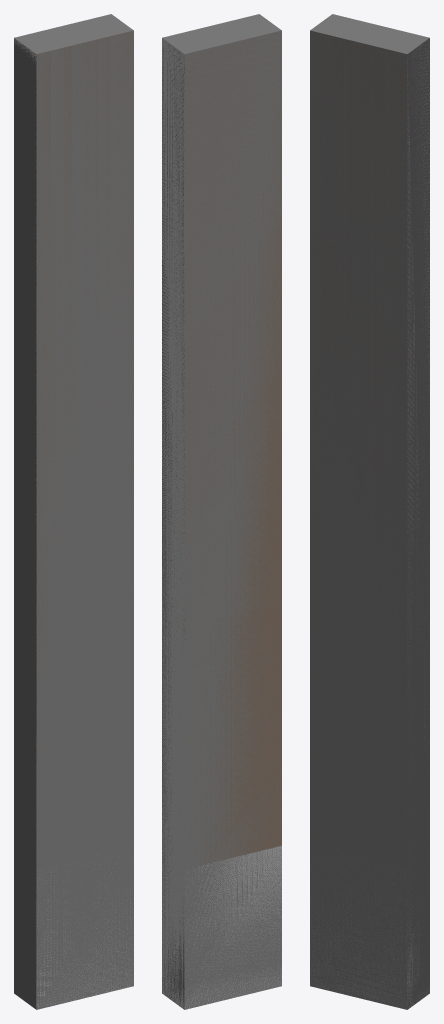
The model's file is s_wh_wall_short_1m.dae.
3 views of the same model, side by side, from view 1: azimuth 30°, elevation 25°; view 2: azimuth 210°, elevation 25°; view 3: azimuth 330°, elevation 25° (orthographic).
Parts seen in each view (by area): view 1: Colmesh_s_wh_wall_short_1m-1, s_wh_wall_short_1m_L50, s_wh_wall_short_1m_L30; view 2: Colmesh_s_wh_wall_short_1m-1, s_wh_wall_short_1m_L30, s_wh_wall_short_1m_L50; view 3: Colmesh_s_wh_wall_short_1m-1, s_wh_wall_short_1m_L30, s_wh_wall_short_1m_L50.
Boxes of the visible parts, <box> form: Colmesh_s_wh_wall_short_1m-1: <box>14,14,133,1009</box>; s_wh_wall_short_1m_L50: <box>14,38,133,1009</box>; s_wh_wall_short_1m_L30: <box>36,31,133,1009</box>; Colmesh_s_wh_wall_short_1m-1: <box>162,14,281,1009</box>; s_wh_wall_short_1m_L30: <box>184,30,281,1009</box>; s_wh_wall_short_1m_L50: <box>162,44,281,1009</box>; Colmesh_s_wh_wall_short_1m-1: <box>310,14,429,1009</box>; s_wh_wall_short_1m_L30: <box>310,31,407,1009</box>; s_wh_wall_short_1m_L50: <box>310,38,429,1009</box>.
Size of the model in its own units: 1 by 0.4001 by 9.38.
